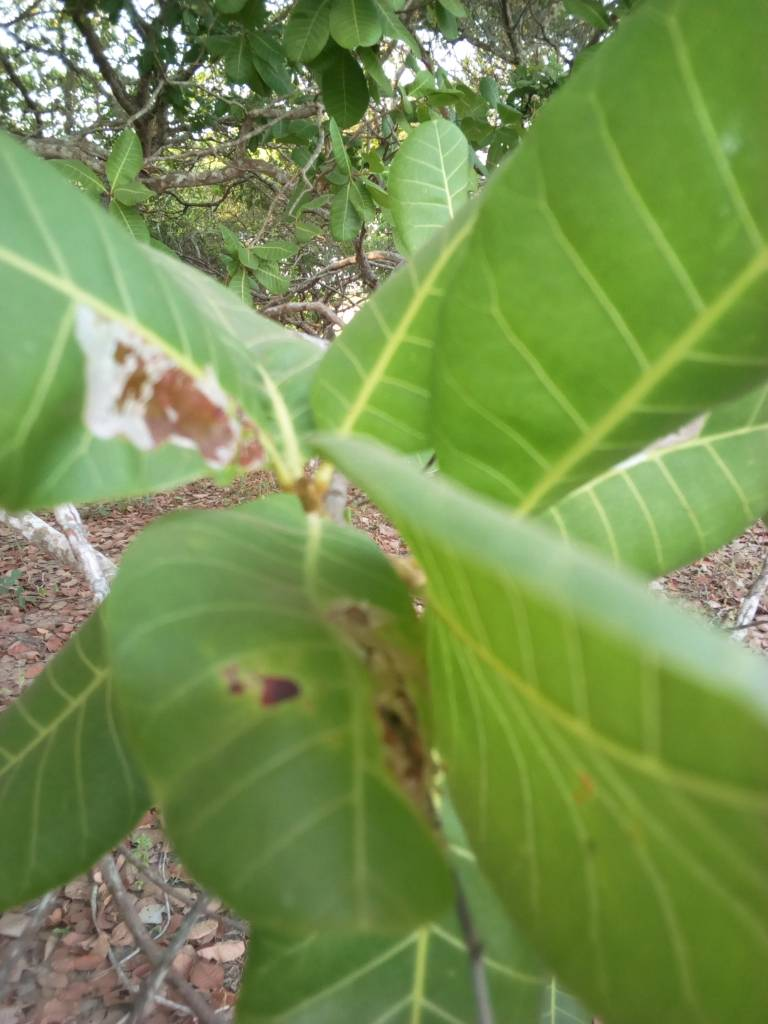Dysdercus wolkerii: (108, 476, 447, 966), (1, 119, 375, 539)
